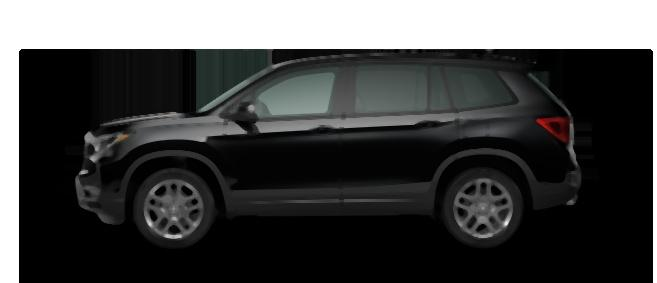Car hood: (86, 106, 196, 131)
Fender - -F-L-: (135, 96, 238, 219)
Fender - -R-L-: (450, 64, 548, 202)
Front bumper: (76, 158, 134, 227)
Headlight - -L-: (84, 132, 134, 156)
Passenger-s door - -F-L-: (209, 47, 352, 232)
Passenger-s door - -R-L-: (340, 51, 452, 233)
Rear bumper: (508, 152, 587, 216)
Rear light - -L-: (536, 113, 579, 151)
Side bumper - -L-: (217, 173, 444, 228)
Side mirror - -L-: (223, 103, 262, 129)
